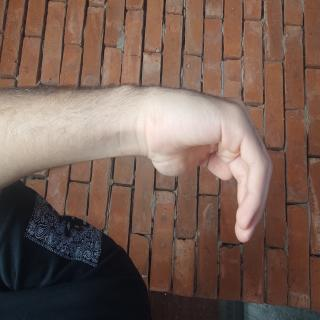HAA: (62, 58, 187, 270)
